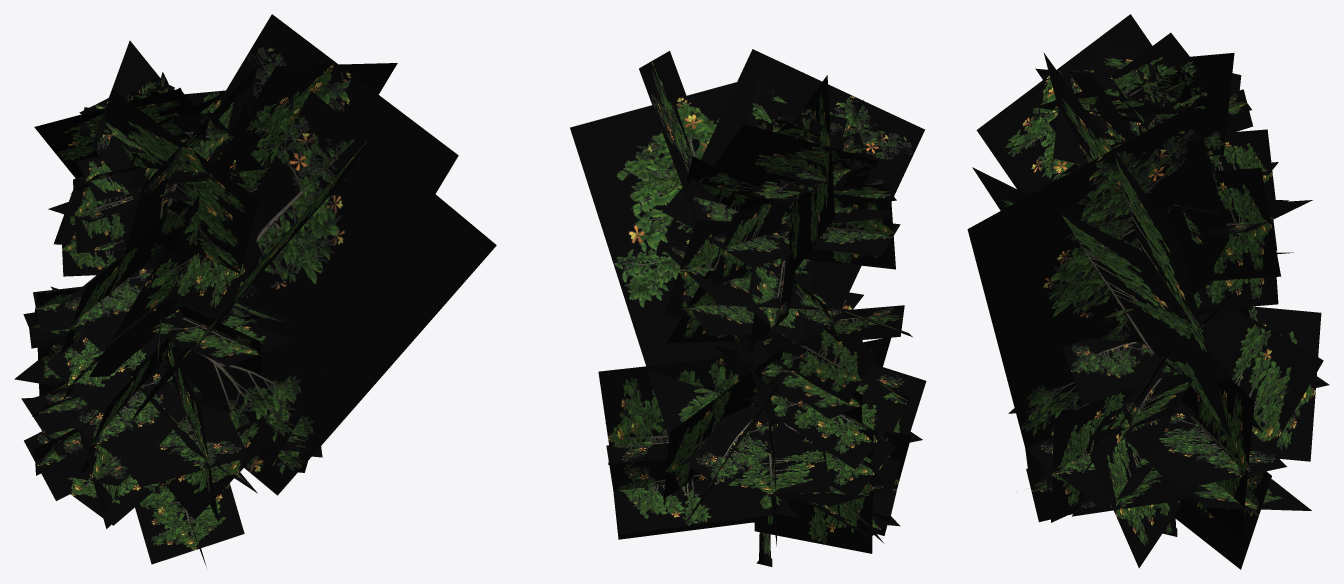
The model's file is camellia_spring.glb.
3 views of the same model, side by side, from view 1: azimuth 30°, elevation 25°; view 2: azimuth 150°, elevation 25°; view 3: azimuth 270°, elevation 25° (orthographic). The views are drawn at different scales.
Parts seen in each view (by area): view 1: 2_Leaves; view 2: 2_Leaves; view 3: 2_Leaves.
Boxes of the visible parts, x1,y1,x2,y2 form: 2_Leaves: [14, 14, 496, 566]; 2_Leaves: [570, 49, 926, 553]; 2_Leaves: [967, 14, 1329, 569].
Size of the model in its own units: 213 by 267 by 175.
1 material, 1 textured.
